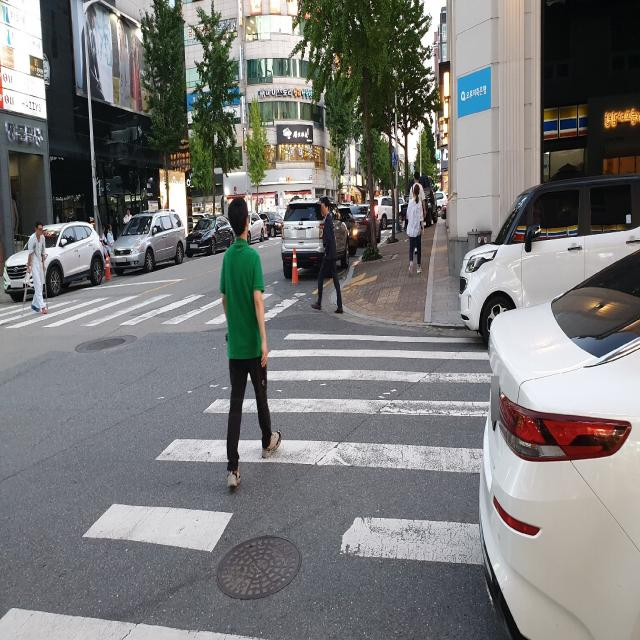횡단보도: (0, 330, 494, 639), (49, 298, 221, 325)
